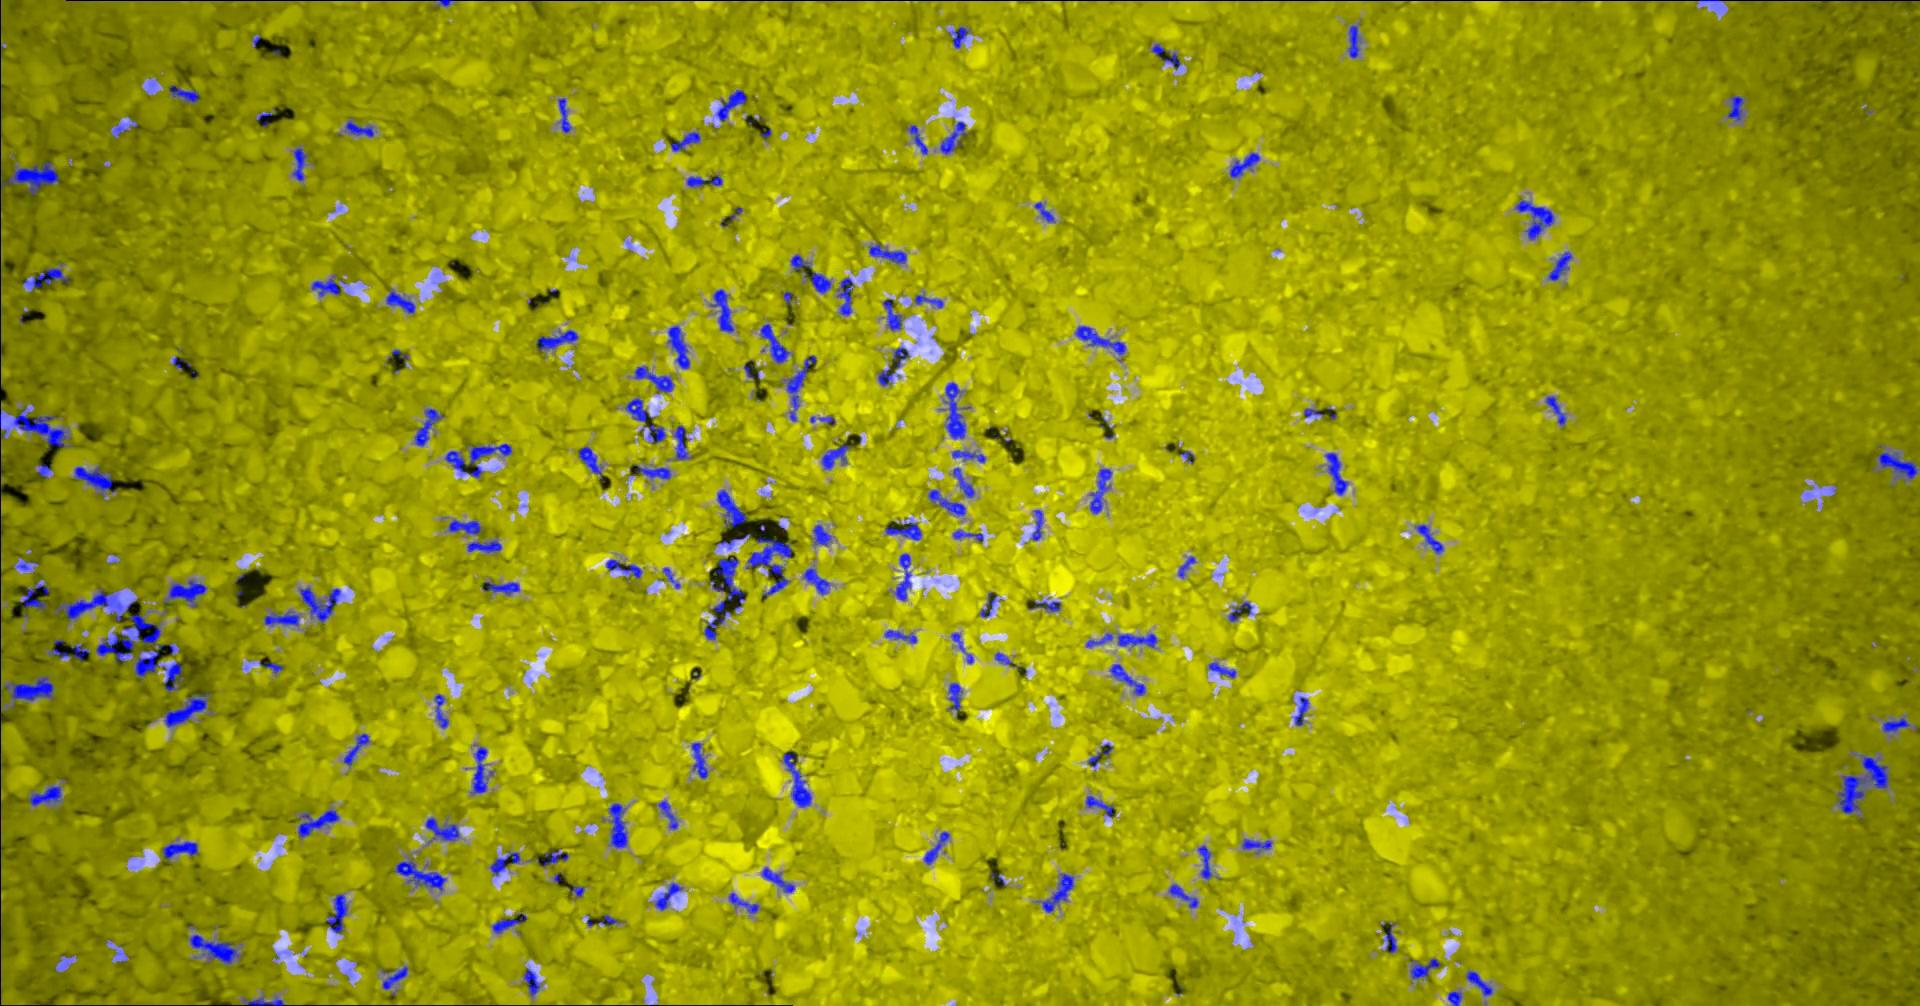ant: (0, 161, 58, 210), (745, 536, 791, 597), (55, 589, 136, 621), (13, 406, 69, 448), (444, 443, 510, 478), (135, 649, 183, 691), (786, 354, 817, 420), (709, 556, 744, 608), (625, 398, 665, 442), (392, 860, 446, 890), (164, 692, 210, 727), (1515, 199, 1554, 239), (298, 586, 340, 622), (783, 752, 811, 807), (1076, 325, 1125, 354), (189, 934, 237, 963), (22, 263, 69, 291), (877, 345, 909, 385), (1041, 873, 1073, 912), (3, 676, 53, 700), (943, 382, 965, 438), (95, 633, 135, 663), (759, 323, 789, 363), (163, 579, 206, 606), (1109, 663, 1144, 695), (1877, 452, 1919, 479), (74, 466, 116, 493), (297, 809, 339, 836), (122, 614, 160, 643), (414, 408, 443, 445), (717, 489, 745, 527), (634, 366, 673, 392), (703, 600, 730, 639), (710, 288, 733, 332), (667, 325, 690, 368), (1090, 467, 1111, 513), (927, 489, 965, 514), (1324, 452, 1347, 494), (535, 329, 578, 351), (715, 89, 745, 119), (938, 121, 968, 152), (18, 582, 50, 610), (50, 639, 89, 661), (343, 733, 370, 765), (608, 803, 627, 847), (578, 446, 603, 479), (923, 831, 949, 864), (470, 746, 488, 793), (326, 894, 347, 934), (761, 868, 794, 892), (822, 441, 850, 469), (1415, 525, 1443, 553), (894, 553, 910, 600), (489, 851, 521, 875), (425, 817, 458, 840), (869, 243, 905, 263), (1150, 43, 1180, 69), (27, 785, 60, 807), (803, 568, 829, 594), (655, 882, 681, 909), (1229, 152, 1258, 177), (385, 290, 415, 312), (950, 633, 973, 663), (491, 913, 526, 934), (885, 521, 921, 540), (1168, 884, 1197, 907), (728, 892, 758, 913), (604, 559, 641, 577), (381, 965, 408, 989), (1465, 970, 1492, 995), (1548, 251, 1571, 279), (952, 467, 974, 497), (837, 277, 853, 315), (1410, 958, 1440, 978), (804, 271, 830, 293), (163, 841, 197, 859), (691, 742, 707, 779), (883, 298, 902, 330), (907, 124, 927, 154), (670, 131, 700, 151), (1087, 743, 1112, 766), (311, 276, 339, 296), (1084, 795, 1112, 815), (658, 800, 677, 829), (1545, 396, 1564, 424), (632, 464, 670, 478), (1117, 633, 1156, 647), (1227, 601, 1252, 621), (483, 580, 519, 594), (169, 85, 199, 102), (673, 426, 688, 459), (263, 611, 298, 625), (540, 848, 568, 866), (557, 98, 571, 132), (467, 539, 502, 553), (434, 694, 448, 728), (1197, 845, 1211, 879), (345, 119, 373, 136), (292, 147, 306, 180), (523, 967, 538, 996), (448, 520, 480, 533), (949, 25, 968, 48), (951, 450, 985, 462), (949, 682, 961, 716), (1208, 662, 1236, 677), (1727, 95, 1743, 121), (979, 592, 996, 617), (255, 107, 276, 127), (1034, 201, 1054, 221), (1294, 696, 1308, 725), (686, 174, 721, 185), (1882, 716, 1909, 732), (884, 629, 916, 641), (914, 293, 942, 307), (1084, 633, 1112, 647), (1382, 923, 1396, 951), (952, 528, 983, 541), (1177, 555, 1195, 577), (662, 567, 679, 588), (243, 996, 284, 1005), (1349, 25, 1360, 57), (813, 525, 830, 545), (1031, 509, 1043, 540), (790, 254, 810, 271), (1027, 601, 1060, 611), (1241, 838, 1271, 848), (259, 661, 283, 673), (743, 359, 758, 379), (809, 417, 834, 426), (597, 915, 618, 925), (994, 652, 1011, 664), (37, 464, 51, 478), (1448, 991, 1462, 1005), (1303, 408, 1323, 417), (568, 885, 584, 895)
